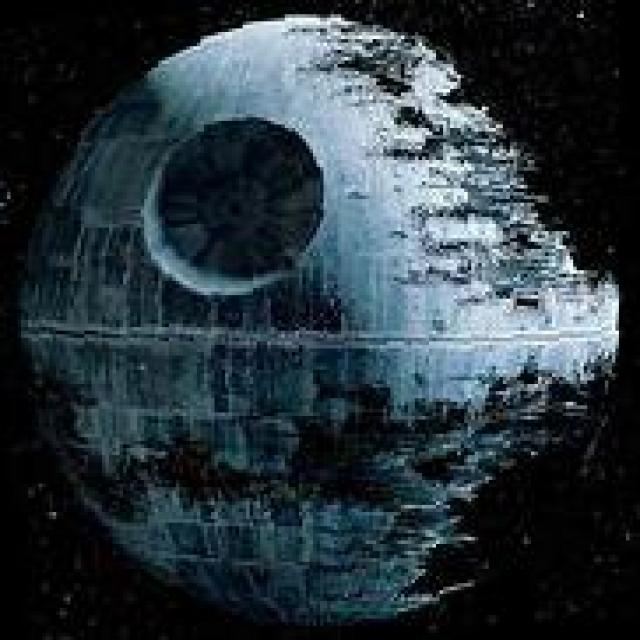Death Star: (7, 7, 619, 629)
